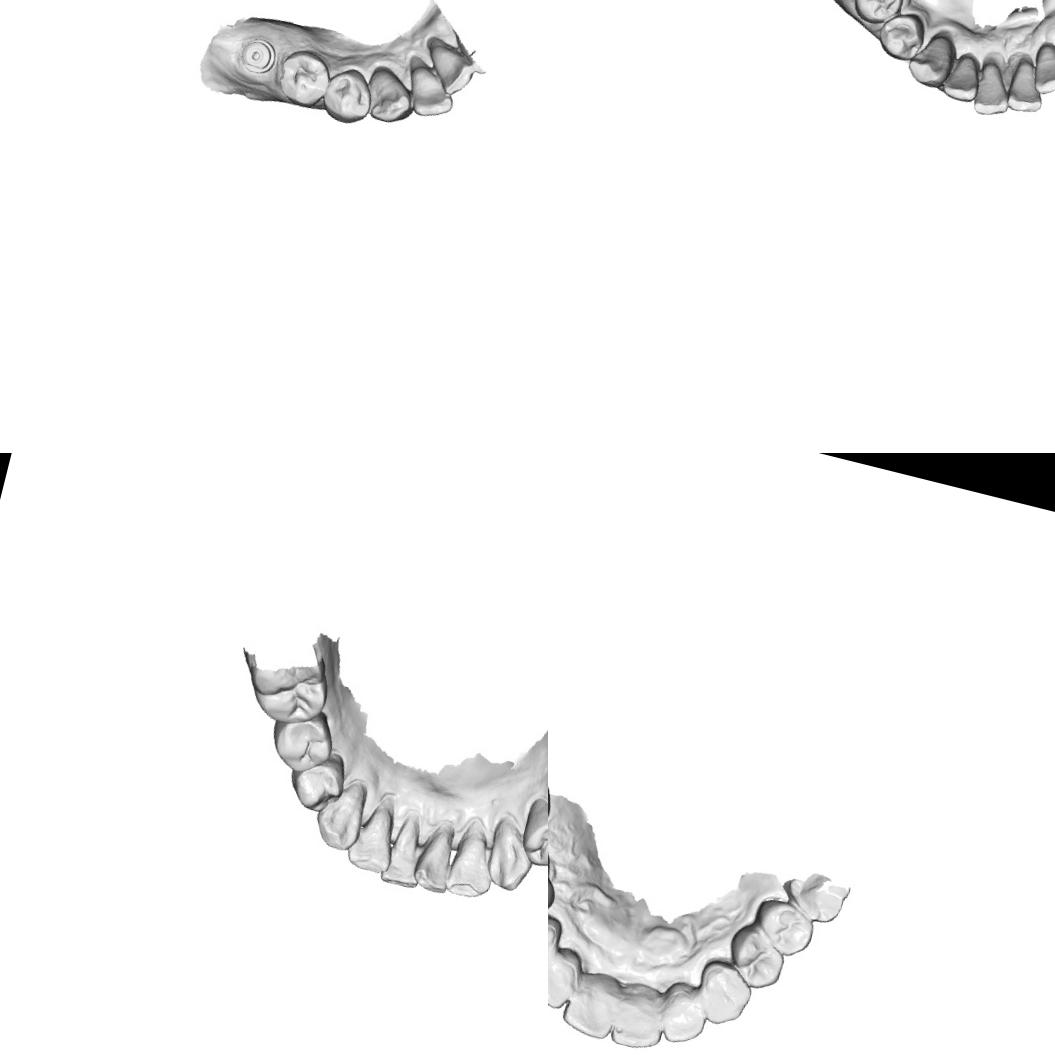canine: (688, 956, 758, 1032), (481, 826, 540, 895), (358, 60, 417, 128), (307, 786, 366, 854), (902, 24, 959, 92)
implant: (234, 32, 280, 78)
incisor: (556, 964, 624, 1042), (606, 978, 674, 1055), (441, 826, 504, 904), (417, 38, 483, 102), (654, 979, 713, 1050), (400, 60, 464, 125), (342, 810, 398, 877), (408, 830, 461, 898), (378, 822, 426, 890), (968, 57, 1018, 121), (1002, 54, 1052, 117), (938, 46, 988, 106), (548, 947, 581, 1013), (1025, 38, 1055, 101)
molar: (234, 644, 334, 732), (778, 866, 853, 925)
premolar: (265, 704, 342, 780), (718, 918, 793, 996), (745, 894, 821, 963), (316, 61, 380, 130), (271, 42, 334, 112), (284, 752, 348, 814), (872, 5, 932, 66), (513, 800, 548, 871), (846, 0, 912, 29)
